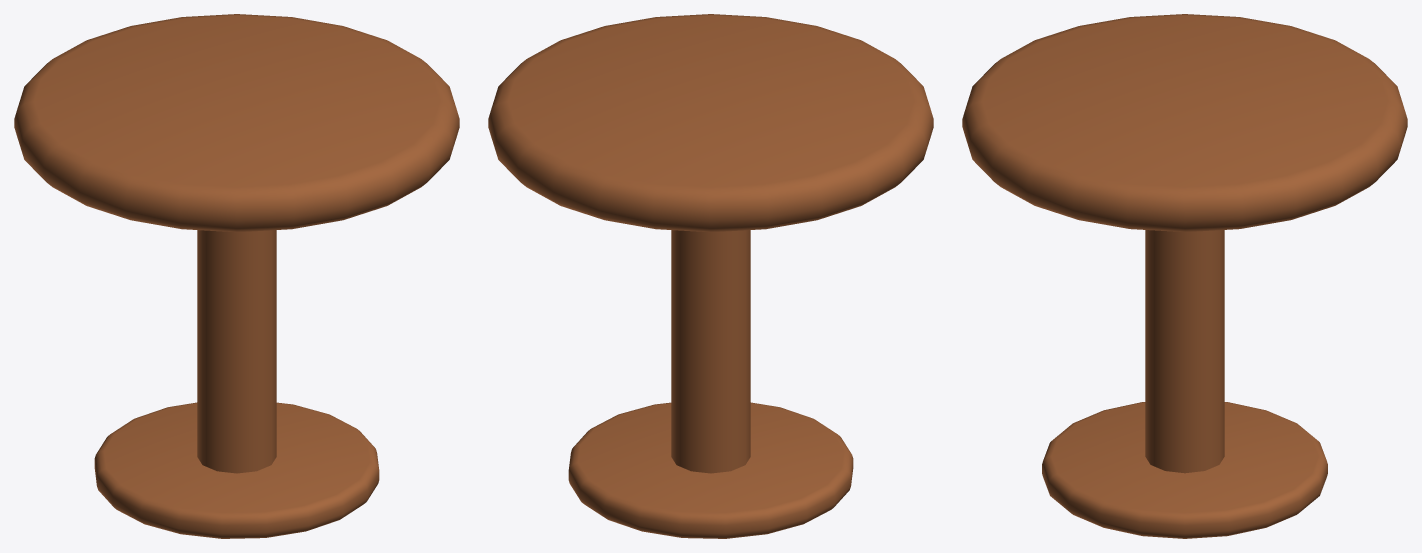
File: side_table.glb
The picture shows the model from 3 angles, left to right: view 1: azimuth 30°, elevation 25°; view 2: azimuth 150°, elevation 25°; view 3: azimuth 270°, elevation 25°; orthographic projection.
Visible parts, largest first — view 1: SideTable; view 2: SideTable; view 3: SideTable.
Part boxes in pixels (x1=…): SideTable: x1=14, y1=14, x2=459, y2=538; SideTable: x1=488, y1=14, x2=933, y2=538; SideTable: x1=962, y1=14, x2=1407, y2=538.
Size of the model in its own units: 0.56 by 0.5275 by 0.56.
